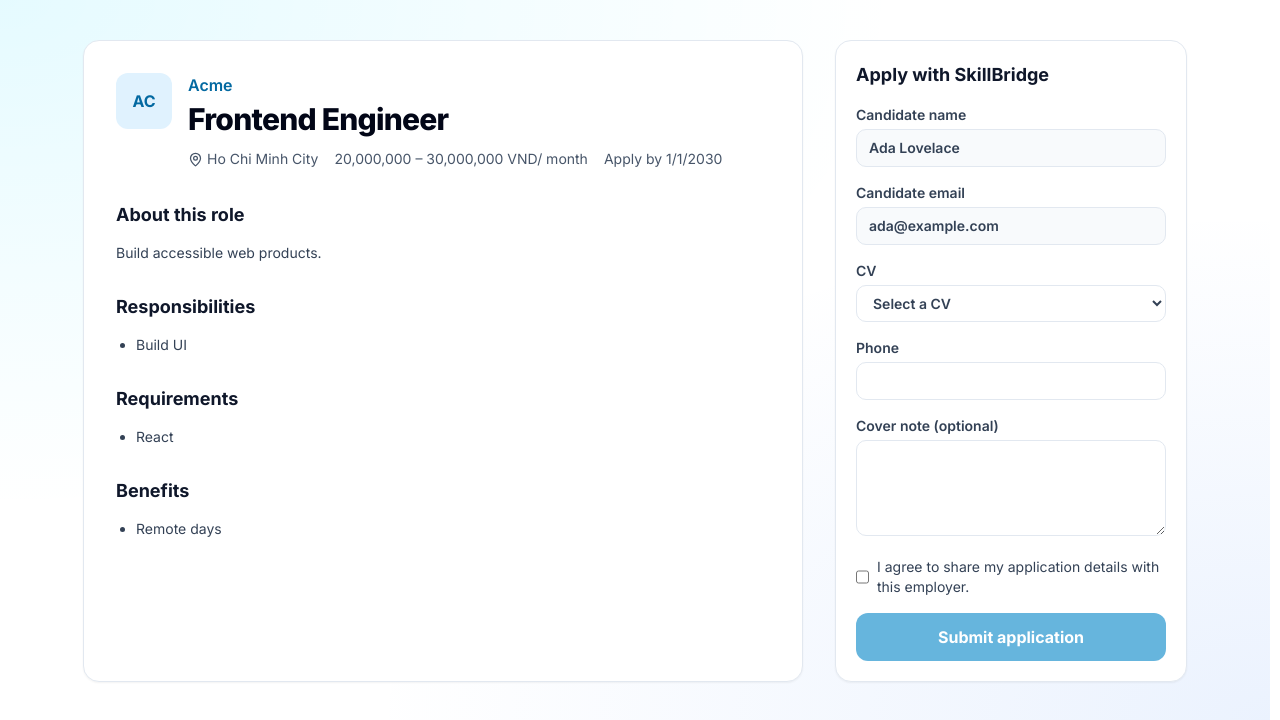
Test case: JobDetail › renders job content and lets an API candidate submit a consented native application
This screenshot has width=1280, height=720.
Expected: the heading "Frontend Engineer" is shown, [188,101,448,137]
Expected: the text "Build accessible web products." is shown, [116,244,322,261]
Select "Frontend CV" in the dropdown labelled "CV" at (1011,304), box [856,285,1166,322]
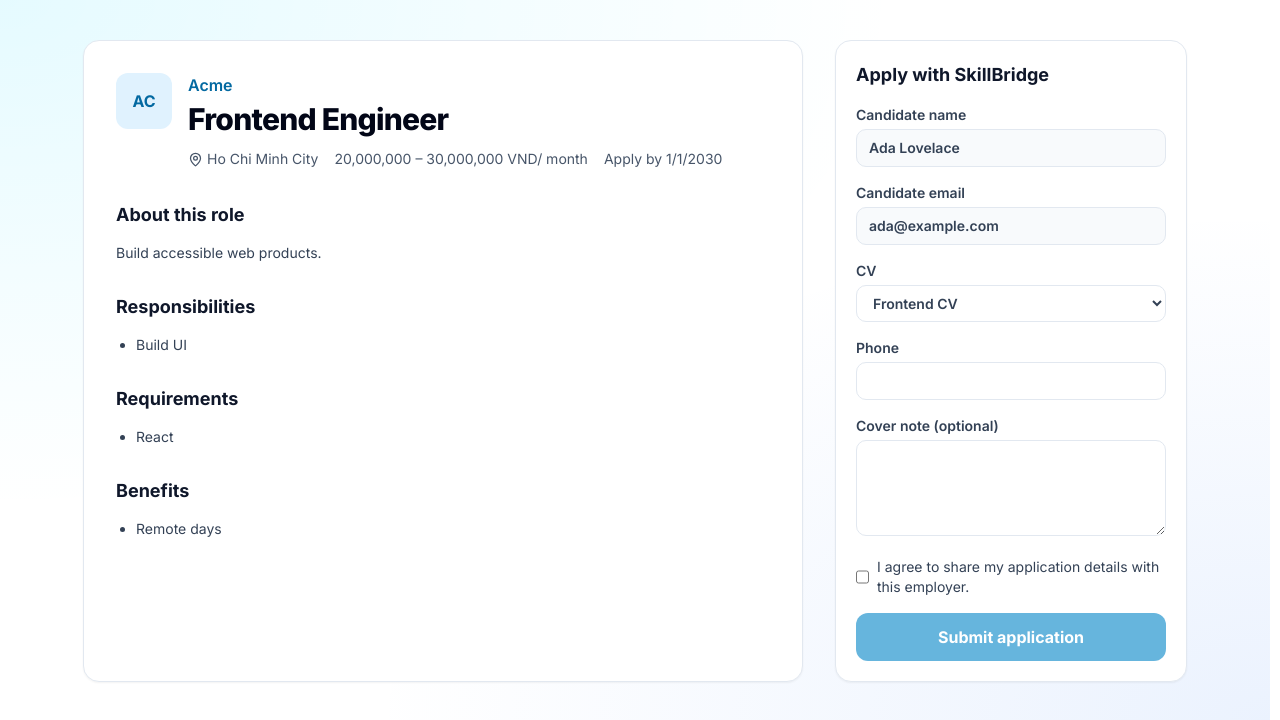
Type "+84 123" into the field labelled "Phone".
click(1011, 381); type("+84 123")  # box [856,362,1166,400]
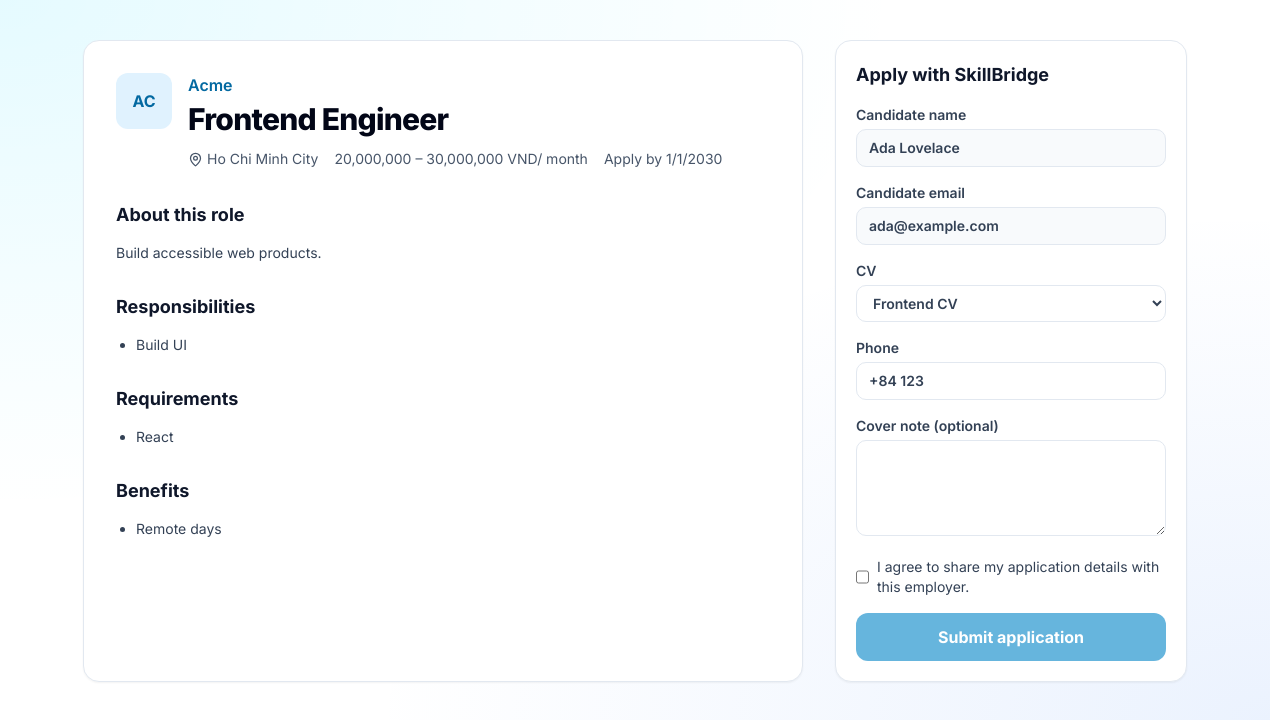
Click the checkbox labelled "I agree to share my application details with this employer.".
click(862, 577)  # box [856,557,869,597]
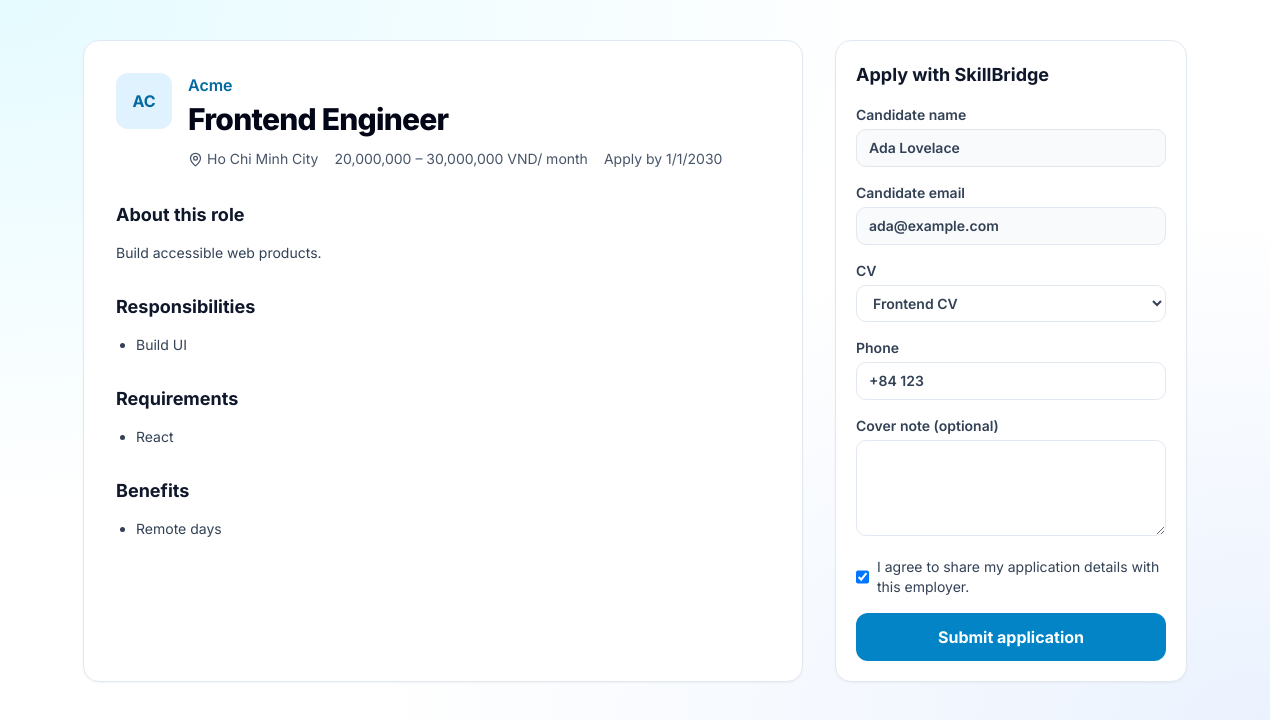
Click the button "Submit application".
click(1011, 637)  # box [856,613,1166,661]
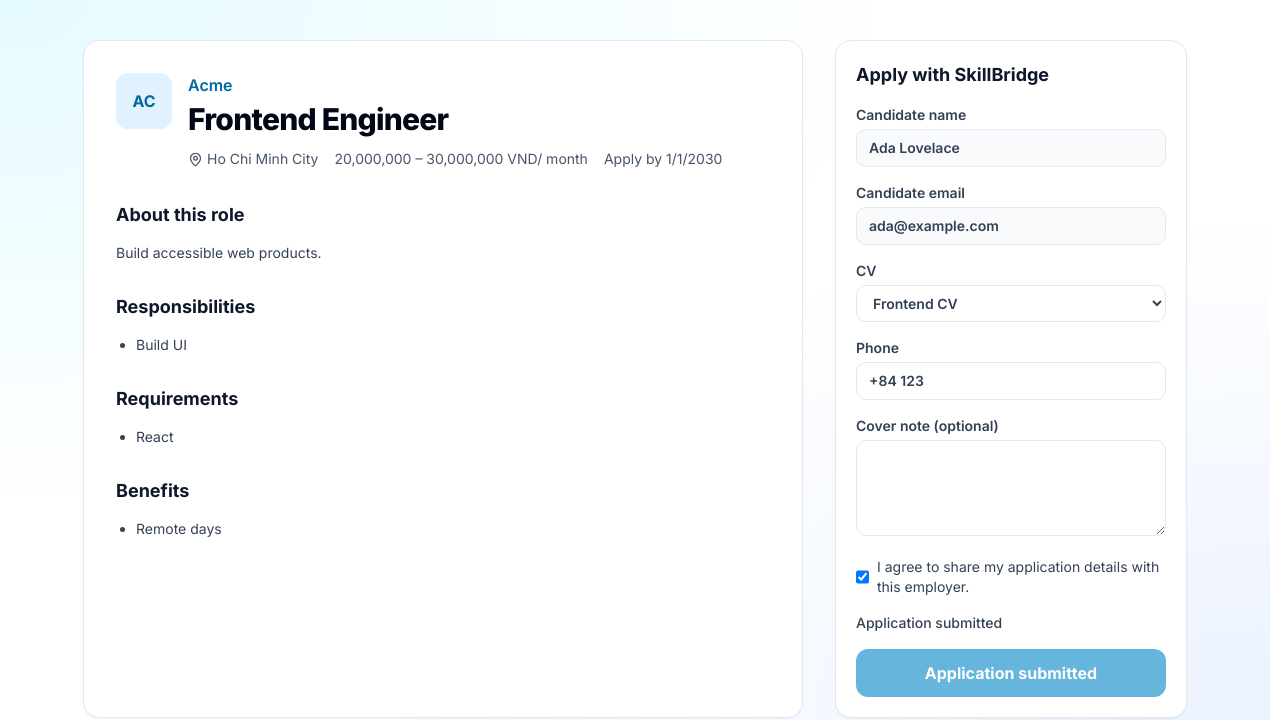
Expected: the button "Application submitted" is shown, [856,649,1166,697]
